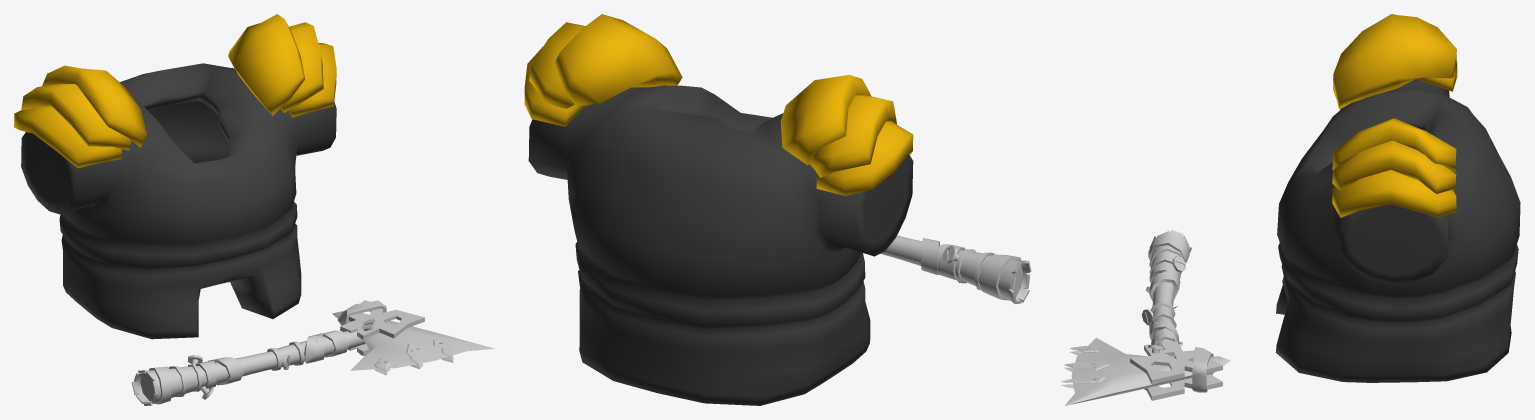
Rendered from kilic6zırh3.fbx.
The picture shows the model from 3 angles, left to right: view 1: azimuth 30°, elevation 25°; view 2: azimuth 150°, elevation 25°; view 3: azimuth 270°, elevation 25°; orthographic projection. The views are drawn at different scales.
Visible parts, largest first — view 1: asker lvl5 zırh.002, asker lvl5 zırh.001; view 2: asker lvl5 zırh.002, asker lvl5 zırh.001; view 3: asker lvl5 zırh.002, asker lvl5 zırh.001.
Part boxes in pixels (left/top/right/bottom): asker lvl5 zırh.002: left=14, top=14, right=336, bottom=339; asker lvl5 zırh.001: left=131, top=300, right=495, bottom=405; asker lvl5 zırh.002: left=524, top=14, right=913, bottom=405; asker lvl5 zırh.001: left=880, top=235, right=1031, bottom=303; asker lvl5 zırh.002: left=1275, top=14, right=1520, bottom=382; asker lvl5 zırh.001: left=1061, top=229, right=1230, bottom=405.
Bounding box in the file's own units: 164 × 127 × 193.
